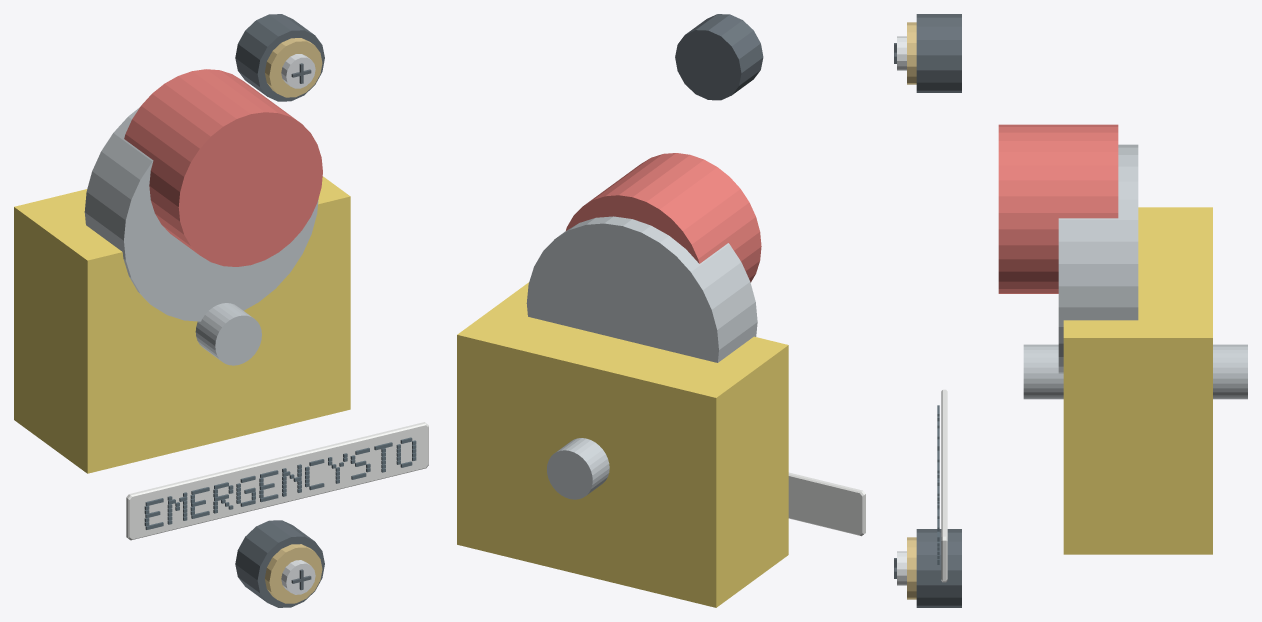
The model's file is emergencyStop.glb.
3 views of the same model, side by side, from view 1: azimuth 30°, elevation 25°; view 2: azimuth 150°, elevation 25°; view 3: azimuth 270°, elevation 25° (orthographic). The views are drawn at different scales.
Parts seen in each view (by area): view 1: emergencyStop-preview; view 2: emergencyStop-preview; view 3: emergencyStop-preview.
Part boxes in pixels (bbox=[...]): emergencyStop-preview: bbox=[14, 14, 428, 607]; emergencyStop-preview: bbox=[457, 14, 865, 607]; emergencyStop-preview: bbox=[894, 14, 1247, 607].
Size of the model in its own units: 1.4 by 2.56 by 1.4.
